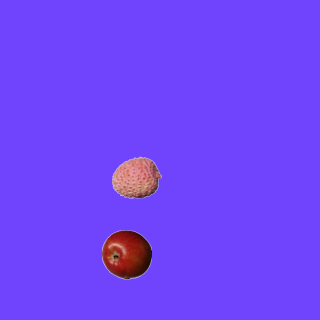Apple Braeburn: (101, 229, 151, 279)
Lychee: (111, 152, 161, 202)
